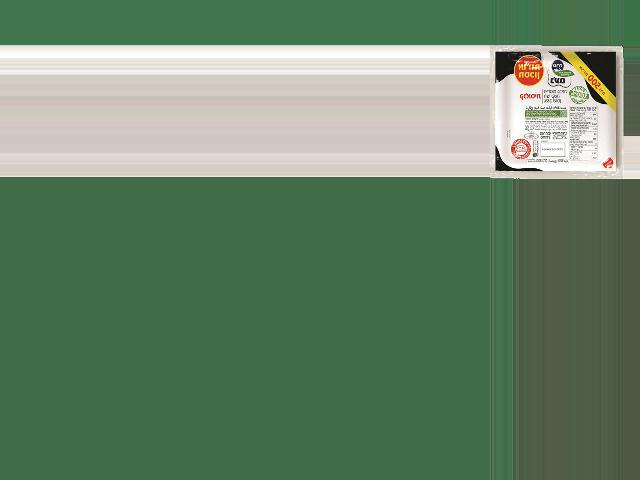cheese: (493, 54, 622, 167)
